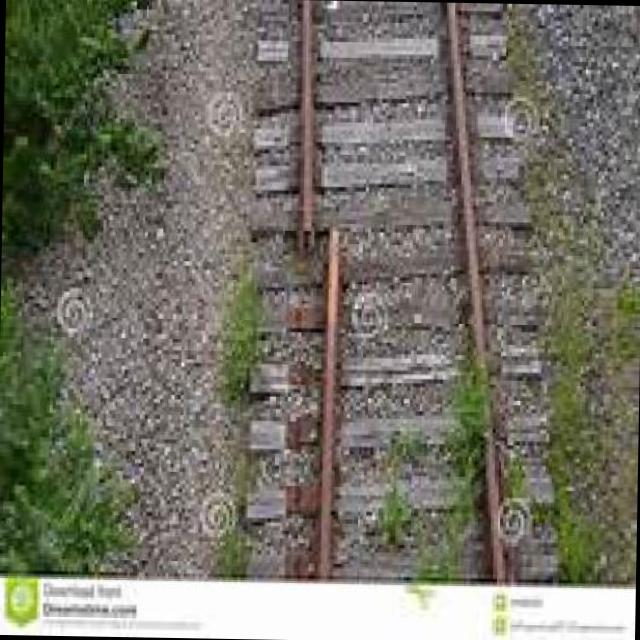defective: (284, 170, 382, 356)
non-defective: (418, 1, 522, 598)
